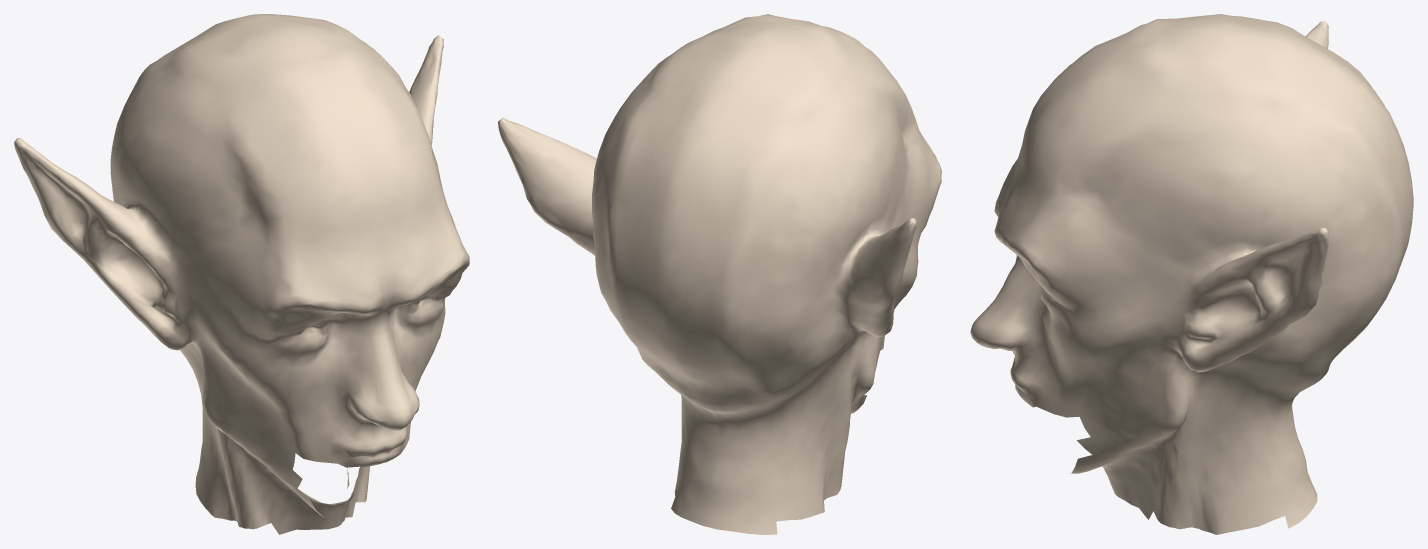
File: head_elf.glb
The picture shows the model from 3 angles, left to right: view 1: azimuth 30°, elevation 25°; view 2: azimuth 150°, elevation 25°; view 3: azimuth 270°, elevation 25°; orthographic projection. The views are drawn at different scales.
Visible parts, largest first — view 1: racial_head; view 2: racial_head; view 3: racial_head.
Part boxes in pixels (x1,y1,x2,y2): racial_head: [14, 14, 469, 534]; racial_head: [498, 14, 941, 534]; racial_head: [970, 14, 1413, 534].
Size of the model in its own units: 0.2829 by 0.2984 by 0.2527.
